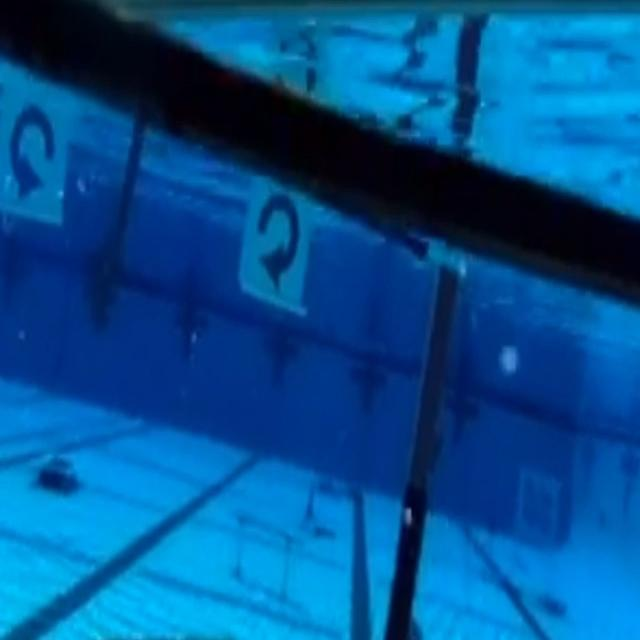Gate: (7, 0, 456, 640)
